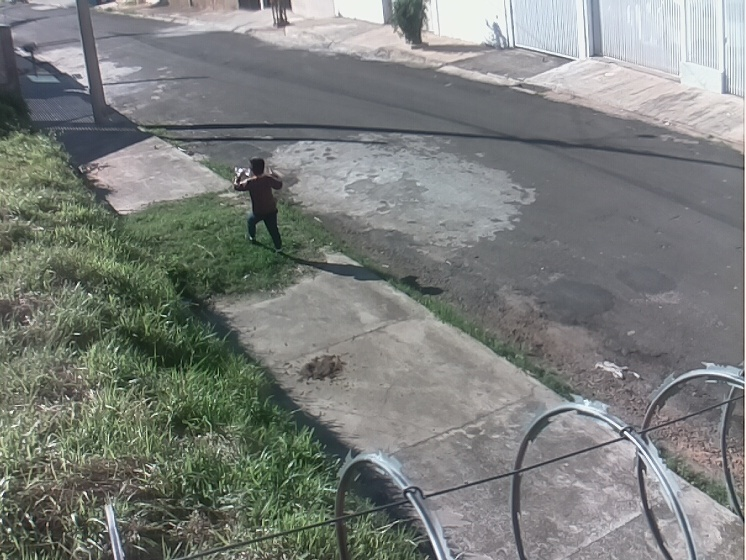person: (232, 158, 285, 255)
